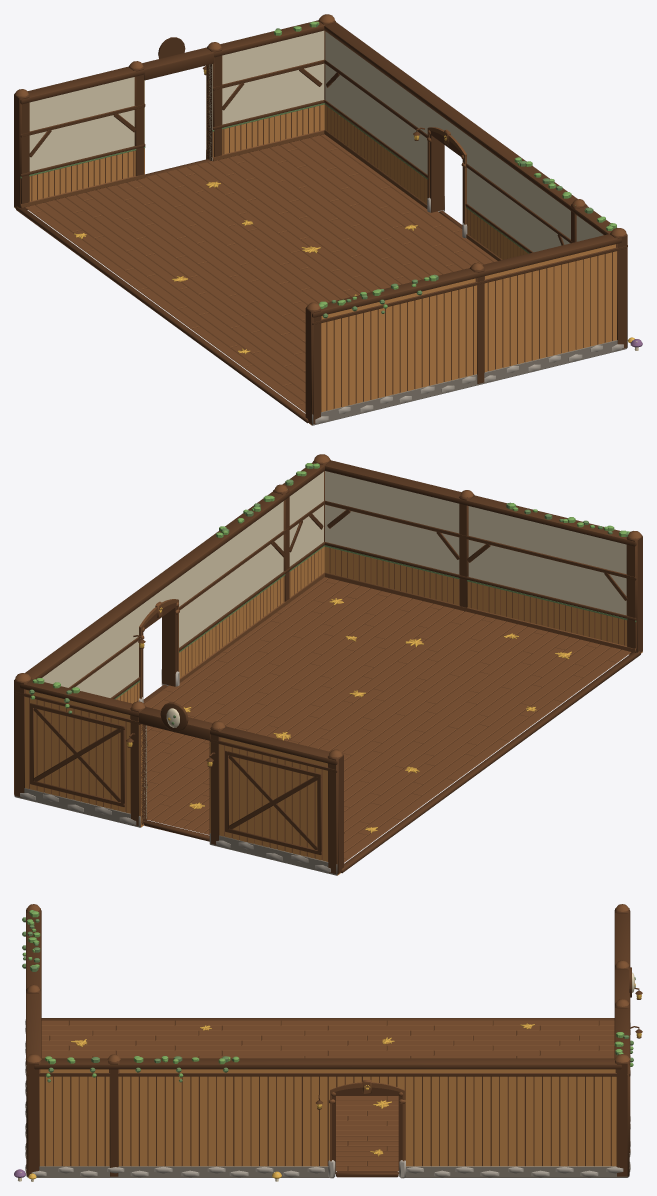
Rendered from ShopZoneCriadero.fbx.
The picture shows the model from 3 angles, top to bottom: view 1: azimuth 30°, elevation 25°; view 2: azimuth 150°, elevation 25°; view 3: azimuth 270°, elevation 25°; orthographic projection. The views are drawn at different scales.
Parts seen in each view (by area): view 1: ShopZoneCriadero; view 2: ShopZoneCriadero; view 3: ShopZoneCriadero.
Boxes of the visible parts, box(x1,y1,x2,y2) form: ShopZoneCriadero: box(14, 14, 642, 425); ShopZoneCriadero: box(14, 454, 642, 875); ShopZoneCriadero: box(14, 904, 642, 1181).
Size of the model in its own units: 9.77 by 3.71 by 16.03.
